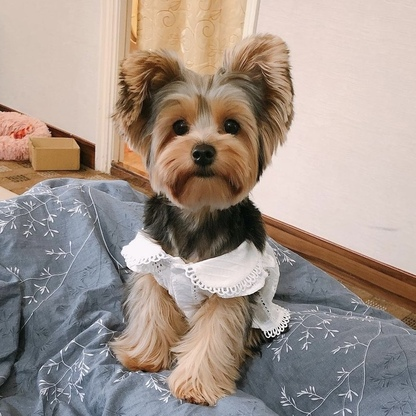yokshine: (108, 32, 298, 406)
